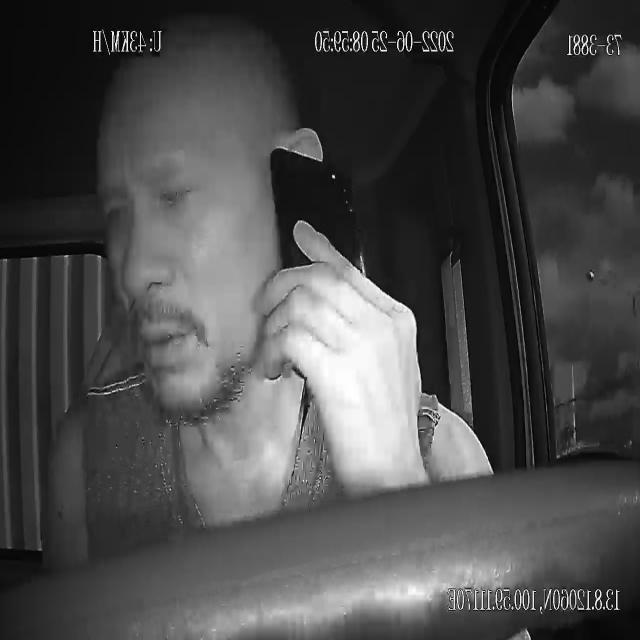phone: (269, 149, 361, 362)
